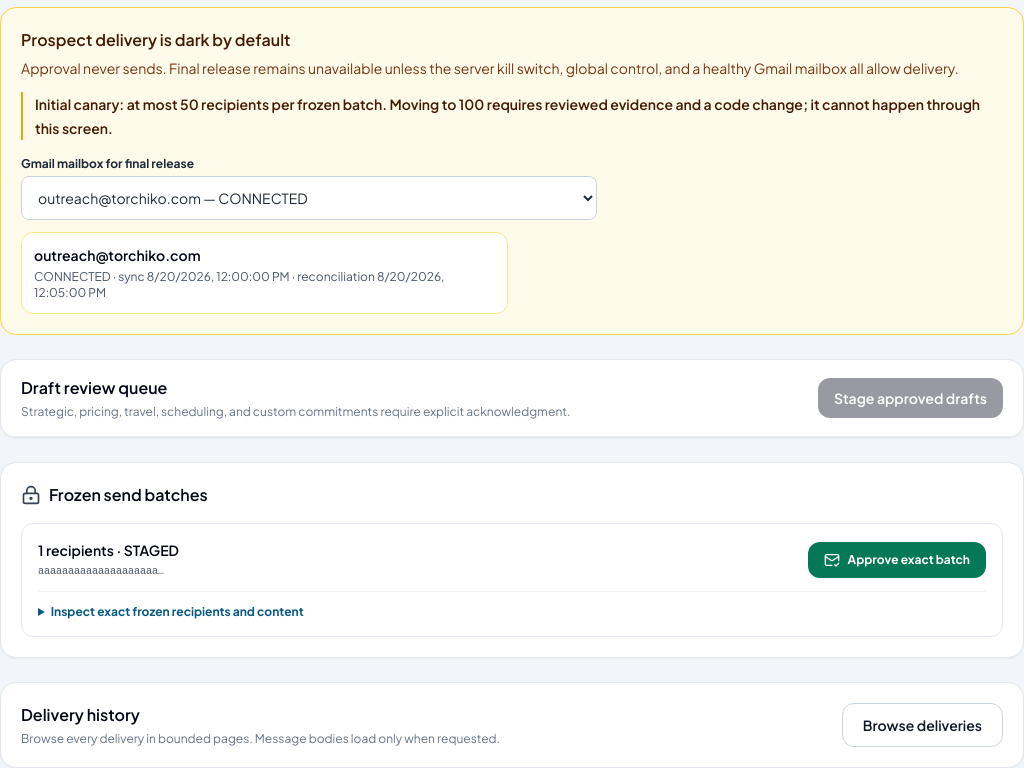
Test: ProspectCampaignWorkbench release safety › shows the exact frozen recipient/content and keeps approval separate from release
(page scrolled)
Click the heading "Inspect exact frozen recipients and content" at (177, 612), box [51, 604, 304, 619]
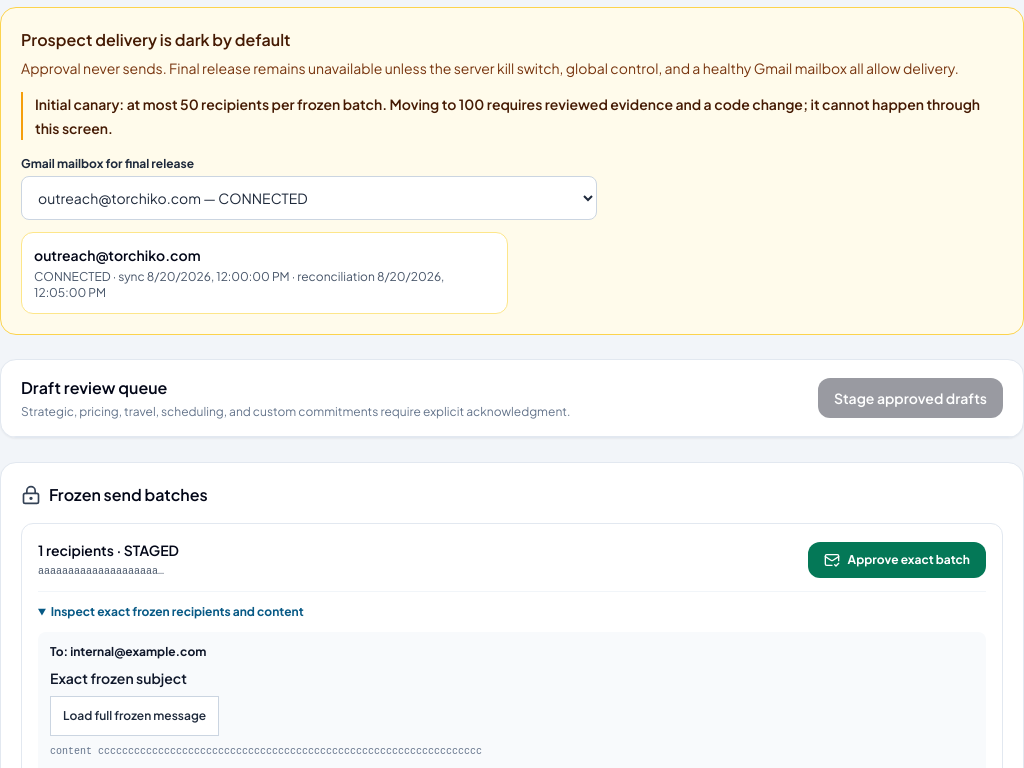
Now the text "To: internal@example.com" is shown, box [50, 644, 206, 659]
Now the text "Exact frozen subject" is shown, box [50, 669, 187, 687]
Click the button "Load full frozen message" at (135, 716), box [50, 696, 219, 736]
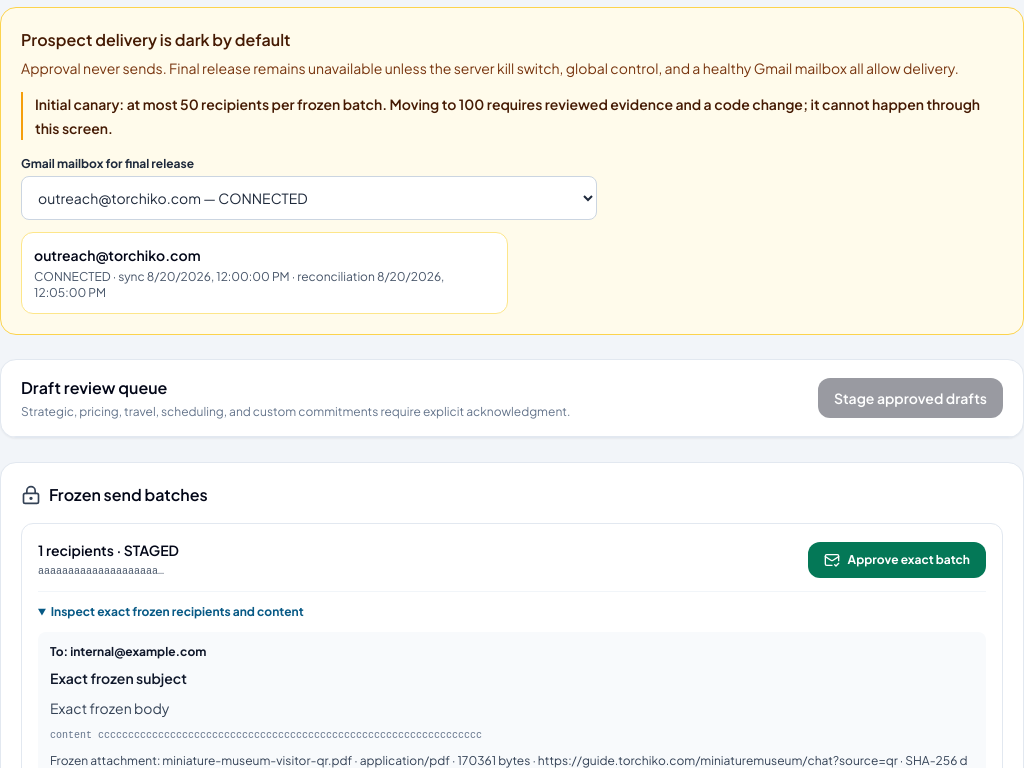
Now the text "Exact frozen body" is shown, box [50, 699, 169, 717]
Click the button "Approve exact batch" at (897, 560), box [808, 542, 986, 578]
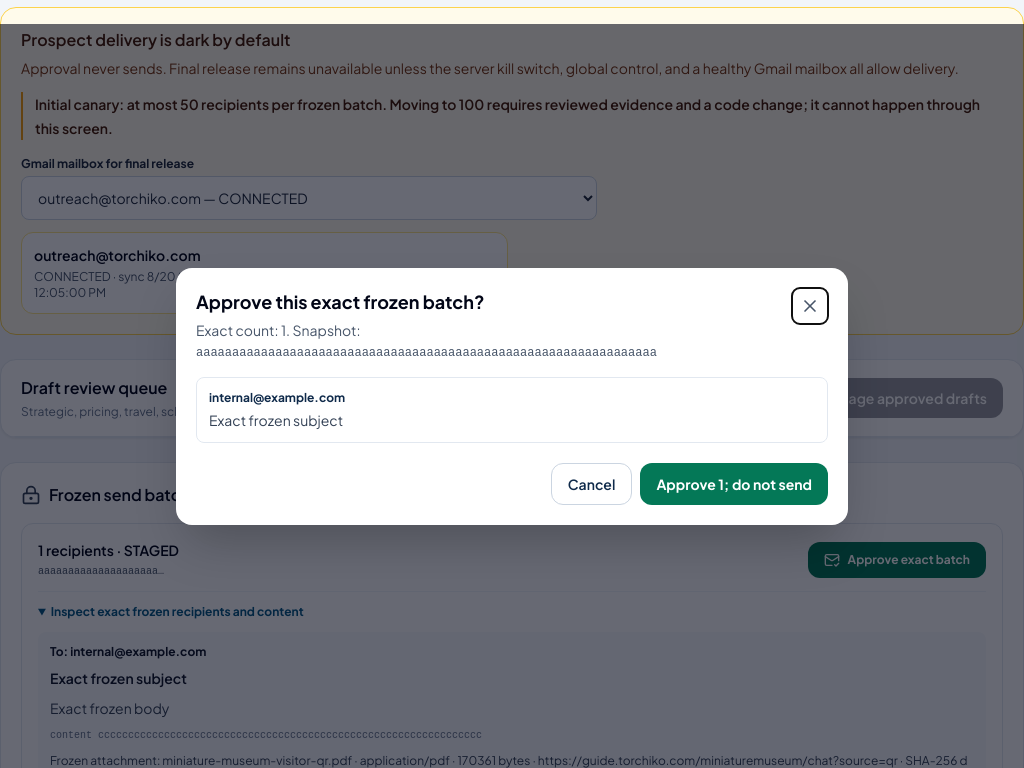
Now the heading "Approve this exact frozen batch?" is shown, box [196, 290, 484, 312]
Now the text "internal@example.com" is shown, box [209, 390, 345, 404]
Now the text "Exact count: 1" is shown, box [196, 320, 657, 360]
